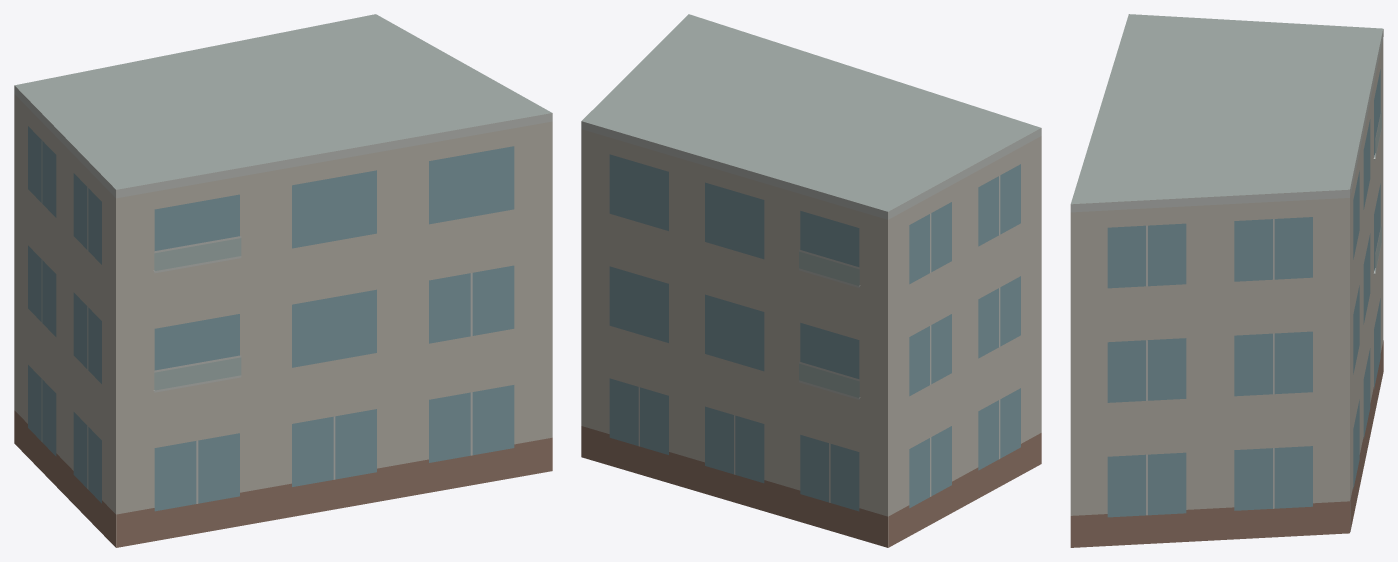
File: survey-upis-32801117.glb
3 views of the same model, side by side, from view 1: azimuth 30°, elevation 25°; view 2: azimuth 150°, elevation 25°; view 3: azimuth 270°, elevation 25° (orthographic). The views are drawn at different scales.
Visible parts, largest first — view 1: survey-upis-32801117.tmp; view 2: survey-upis-32801117.tmp; view 3: survey-upis-32801117.tmp.
Boxes of the visible parts, x1,y1,x2,y2 form: survey-upis-32801117.tmp: [14, 14, 552, 547]; survey-upis-32801117.tmp: [581, 14, 1041, 547]; survey-upis-32801117.tmp: [1070, 14, 1383, 547].
Bounding box in the file's own units: 12.18 × 10.25 × 8.47.
